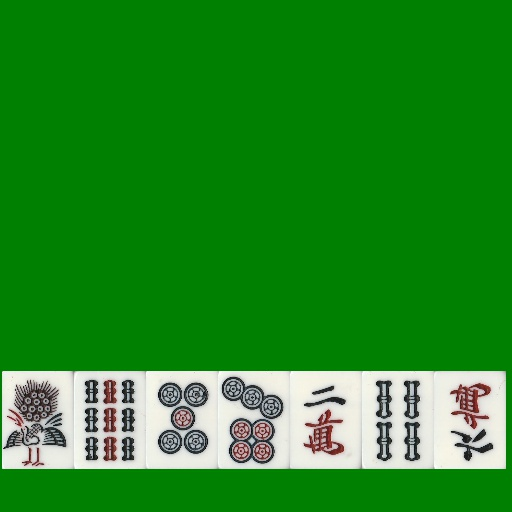1s: (2, 371, 74, 469)
2m: (290, 371, 362, 469)
4s: (362, 371, 434, 469)
5p: (146, 371, 218, 469)
6m: (434, 371, 506, 469)
7p: (218, 371, 290, 469)
9s: (74, 371, 146, 469)
